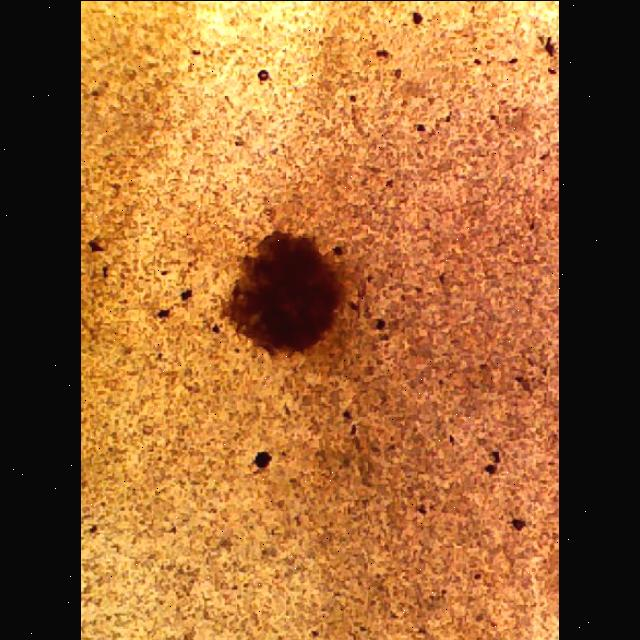Fragment: (222, 212, 348, 362)
